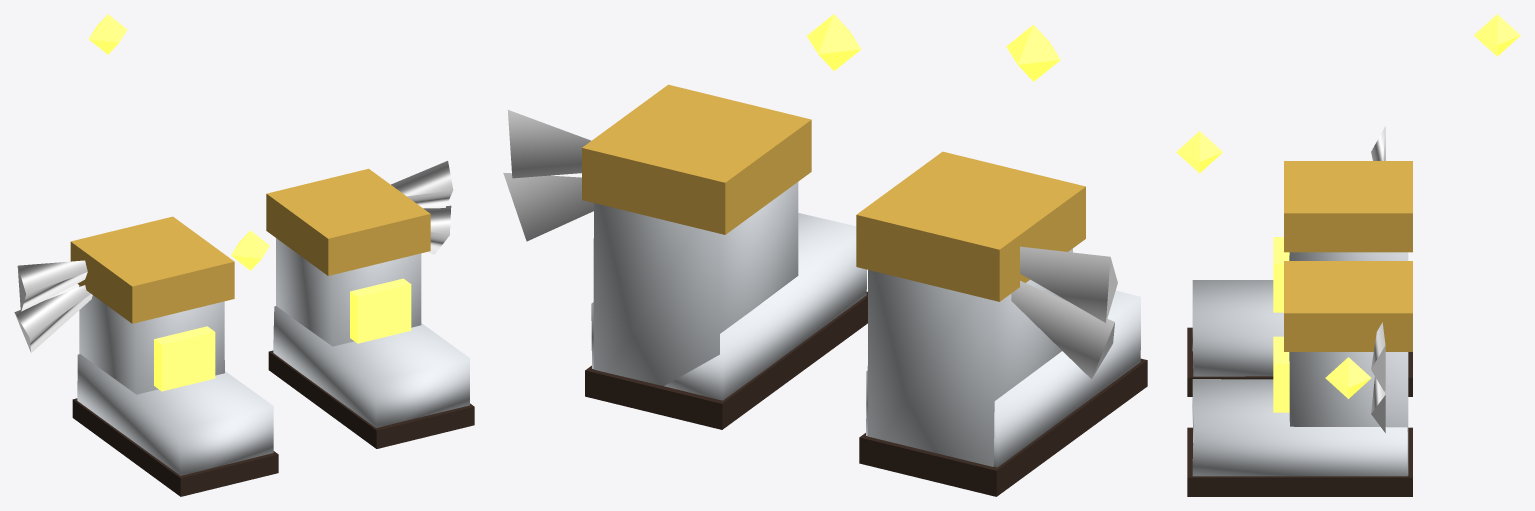
The model's file is legend_boots_wind.glb.
3 renders of one model, left to right at view 1: azimuth 30°, elevation 25°; view 2: azimuth 150°, elevation 25°; view 3: azimuth 270°, elevation 25°, orthographic. The views are drawn at different scales.
Parts seen in each view (by area): view 1: sideL_metal3, sideR_metal3, sideL_trim3, sideR_trim3, item_legendWing, sideR_sole, sideL_sole, sideR_gem3, sideL_gem3, item_legendSpark; view 2: sideL_metal3, sideR_metal3, sideL_trim3, sideR_trim3, item_legendWing, sideR_sole, sideL_sole, item_legendSpark; view 3: sideL_metal3, sideR_trim3, sideL_trim3, sideR_metal3, sideL_sole, item_legendSpark, item_legendWing, sideL_gem3, sideR_sole, sideR_gem3.
Part boxes in pixels (left/top/right/bottom): sideL_metal3: left=273, top=238, right=469, bottom=427; sideR_metal3: left=77, top=285, right=273, bottom=475; sideL_trim3: left=266, top=168, right=430, bottom=275; sideR_trim3: left=70, top=216, right=234, bottom=323; item_legendWing: left=14, top=161, right=453, bottom=352; sideR_sole: left=72, top=398, right=278, bottom=496; sideL_sole: left=268, top=350, right=474, bottom=448; sideR_gem3: left=154, top=326, right=215, bottom=391; sideL_gem3: left=350, top=278, right=411, bottom=343; item_legendSpark: left=88, top=14, right=269, bottom=270; sideL_metal3: left=591, top=182, right=866, bottom=400; sideR_metal3: left=866, top=248, right=1140, bottom=467; sideL_trim3: left=582, top=84, right=811, bottom=234; sideR_trim3: left=856, top=151, right=1085, bottom=301; item_legendWing: left=503, top=110, right=1117, bottom=379; sideR_sole: left=859, top=358, right=1147, bottom=496; sideL_sole: left=585, top=291, right=867, bottom=429; item_legendSpark: left=807, top=14, right=1060, bottom=81; sideL_metal3: left=1192, top=352, right=1408, bottom=476; sideR_trim3: left=1284, top=161, right=1412, bottom=252; sideL_trim3: left=1284, top=261, right=1412, bottom=351; sideR_metal3: left=1192, top=252, right=1408, bottom=376; sideL_sole: left=1187, top=427, right=1412, bottom=496; item_legendSpark: left=1176, top=14, right=1520, bottom=398; item_legendWing: left=1371, top=126, right=1385, bottom=432; sideL_gem3: left=1273, top=336, right=1289, bottom=412; sideR_sole: left=1187, top=327, right=1412, bottom=396; sideR_gem3: left=1273, top=237, right=1289, bottom=312.
Size of the model in its own units: 0.4907 by 0.3827 by 0.3211.
